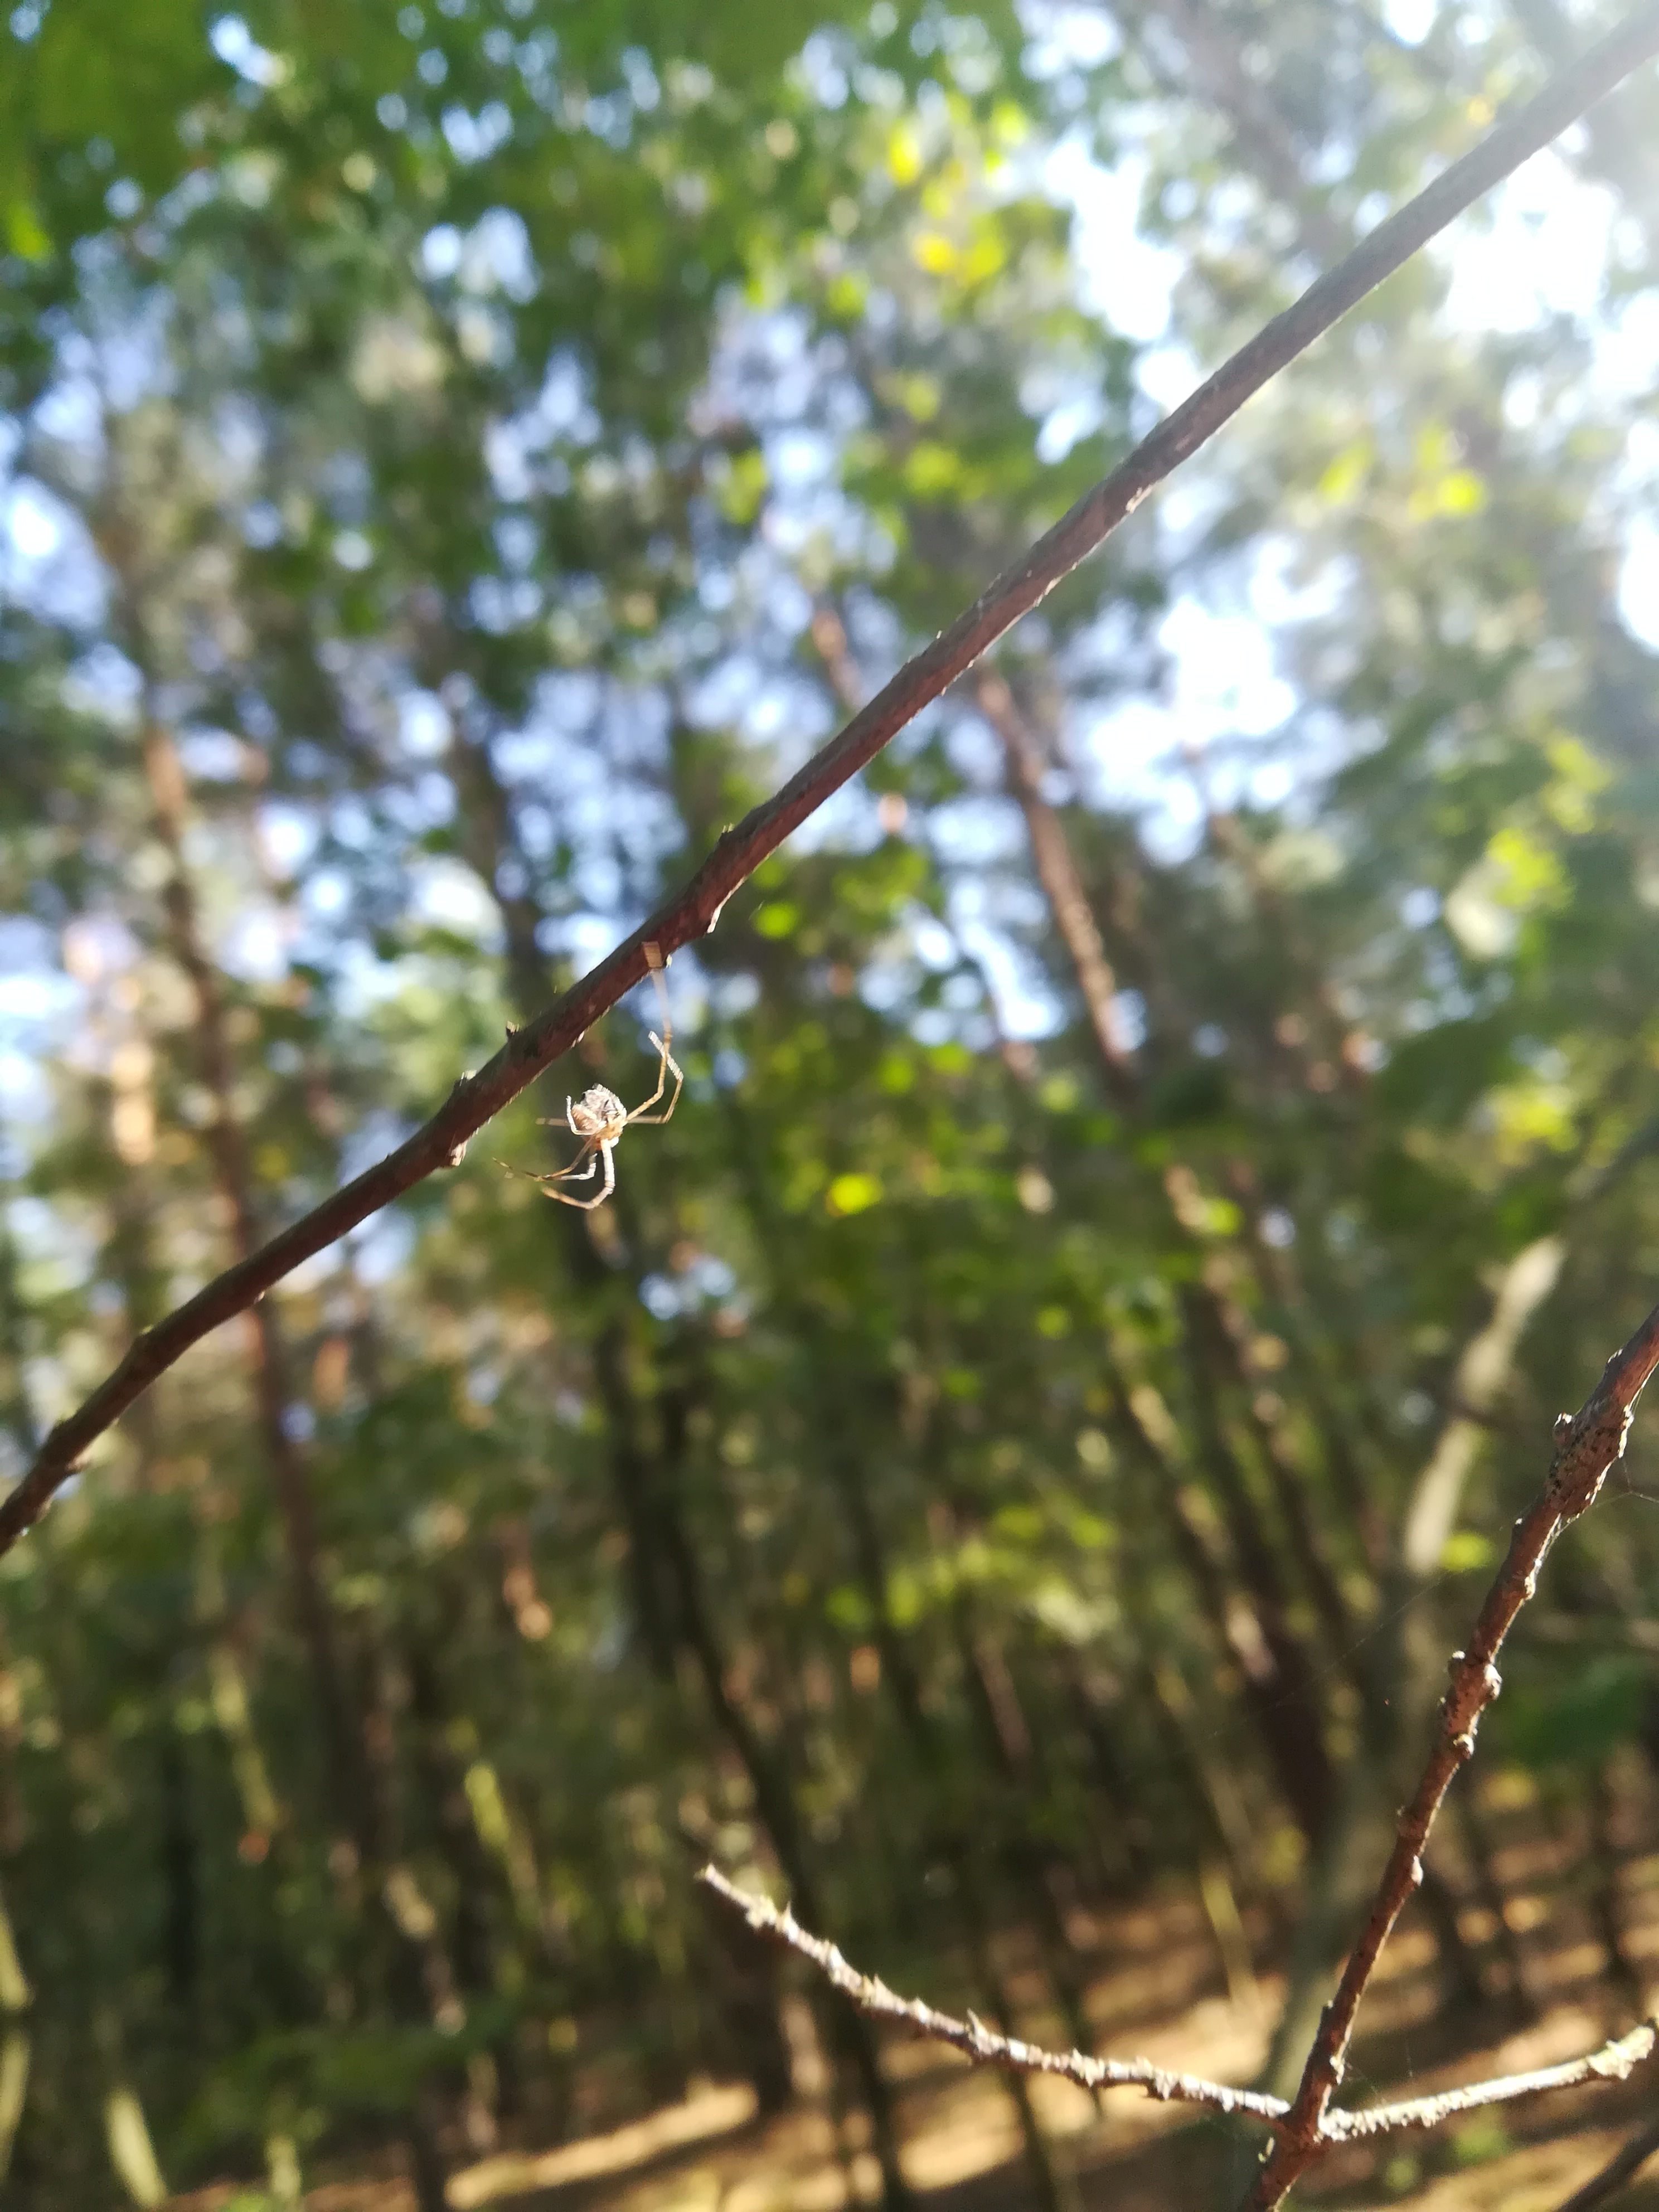spider: (404, 974, 716, 1289)
